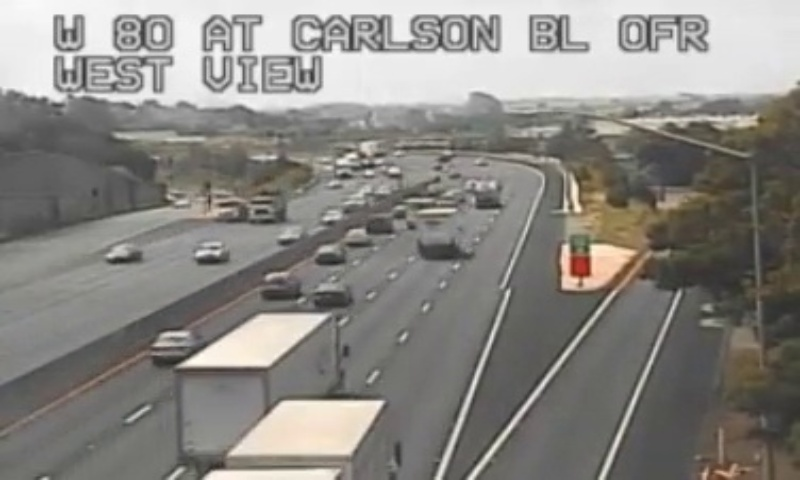car: (148, 329, 200, 363), (260, 270, 298, 299), (312, 284, 348, 305), (312, 243, 344, 265)
small-truck: (415, 207, 458, 256)
truck: (174, 310, 340, 457)
